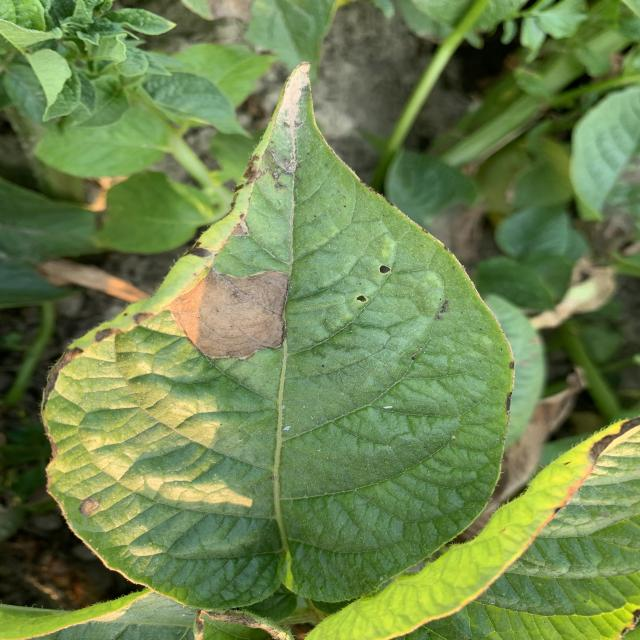lateblight: (170, 269, 288, 359), (258, 64, 330, 175), (80, 305, 160, 349), (45, 348, 85, 395), (90, 344, 100, 351)
